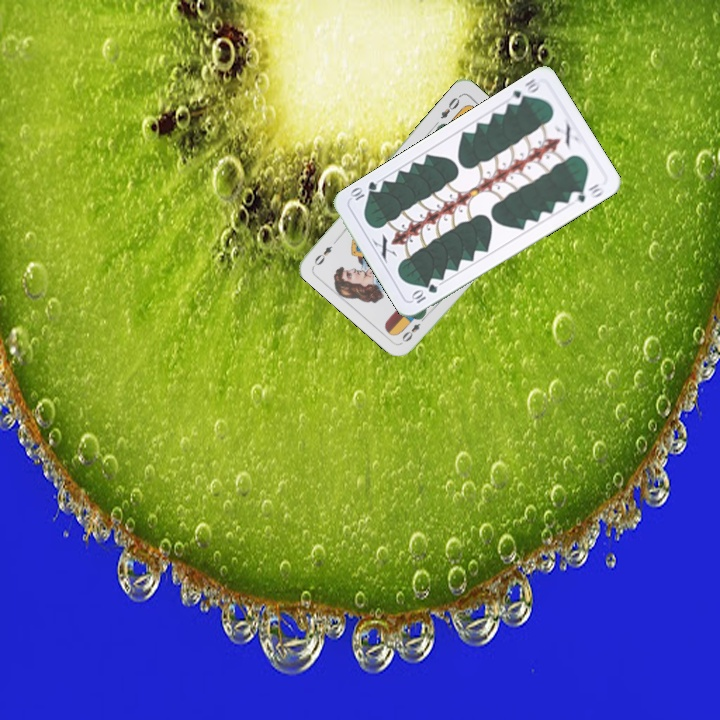EO: (398, 311, 429, 345), (436, 91, 464, 121)
G10: (508, 74, 542, 108), (407, 280, 440, 306)
